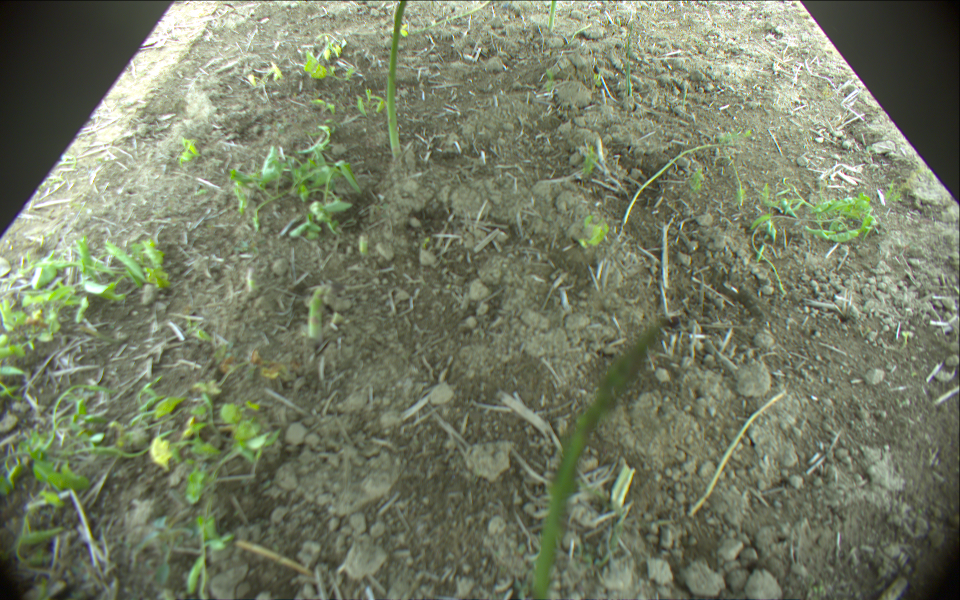aspa: (524, 317, 672, 600), (622, 143, 738, 227), (386, 1, 408, 159), (405, 1, 486, 36), (546, 1, 559, 30)
